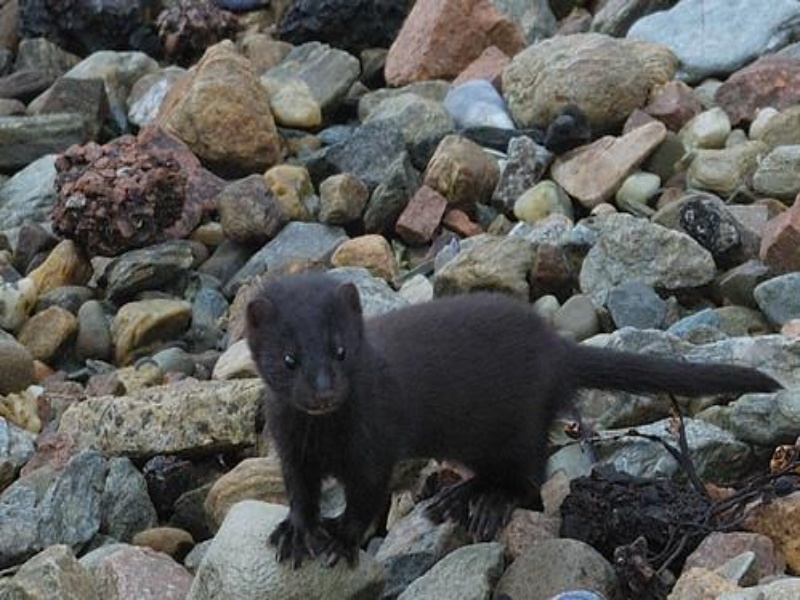minkish: (243, 268, 783, 571)
